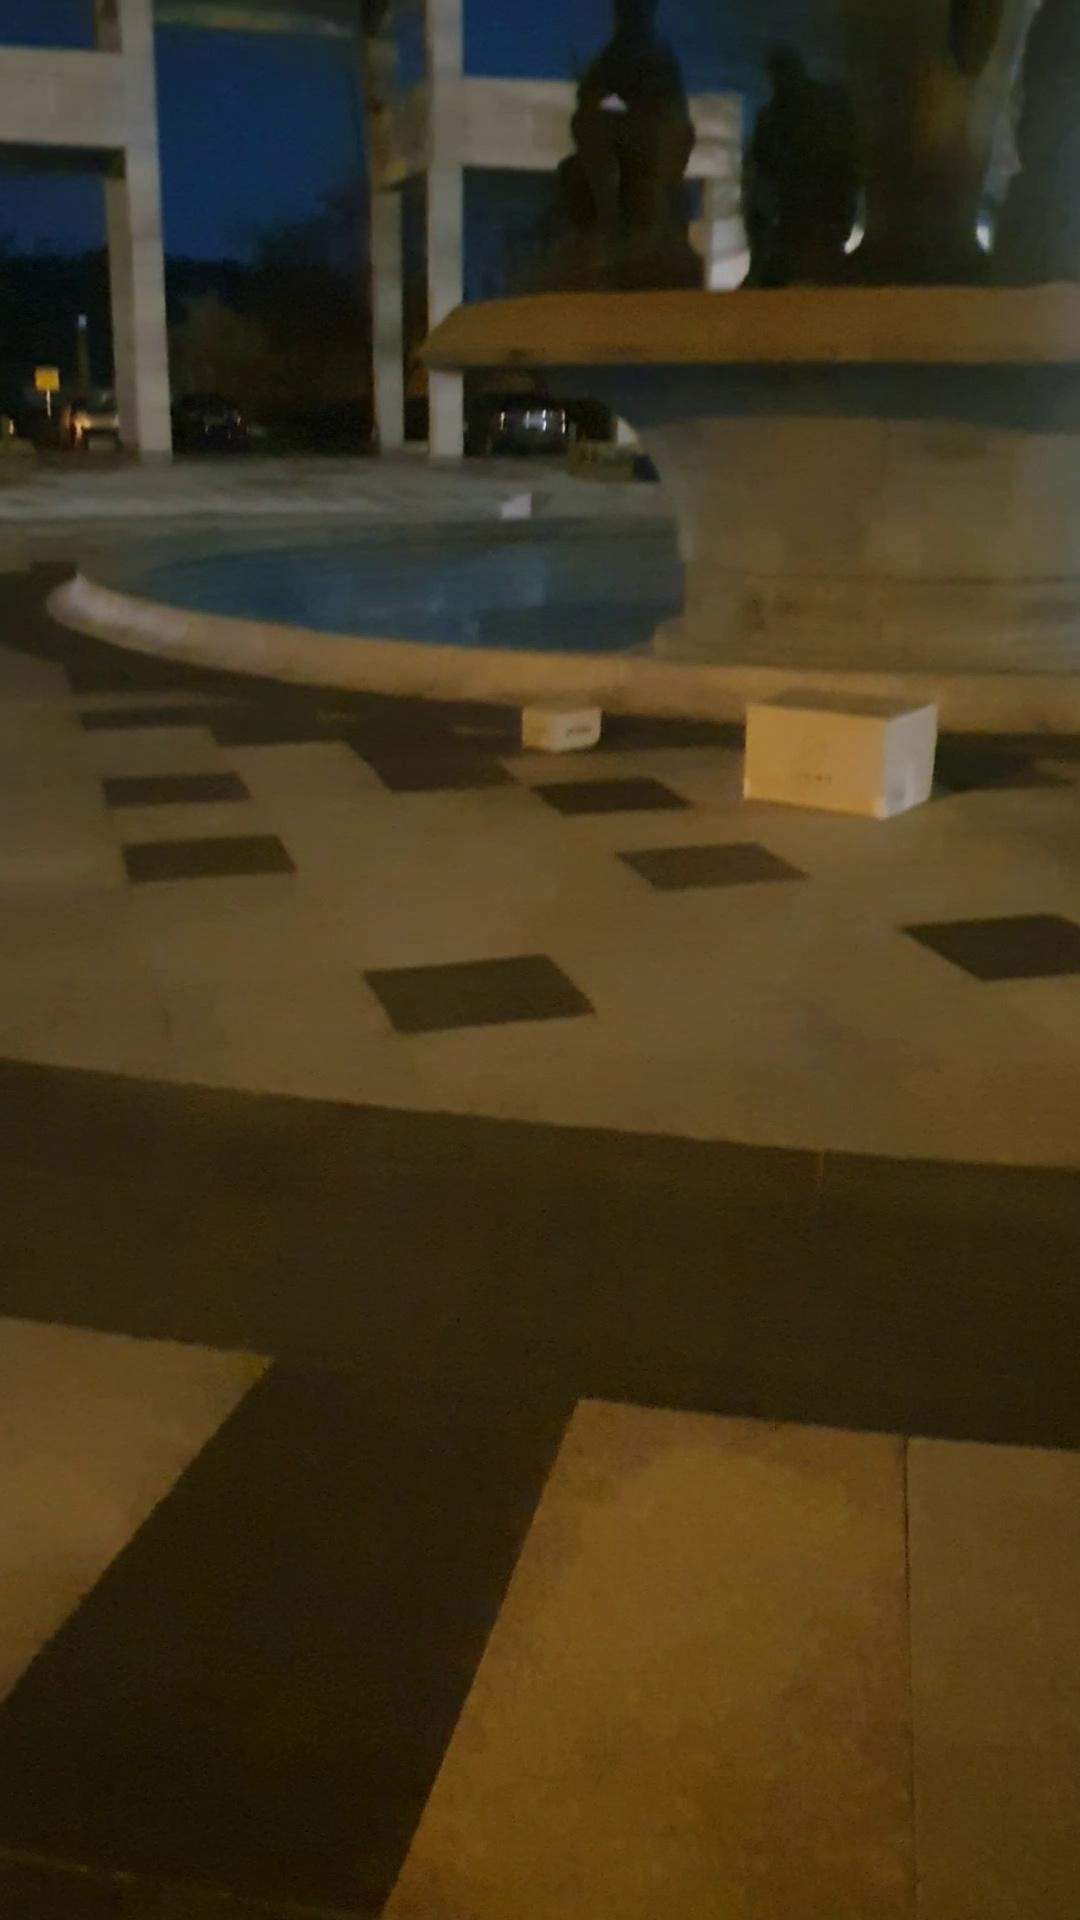Box: (716, 683, 949, 820), (501, 683, 608, 765)
